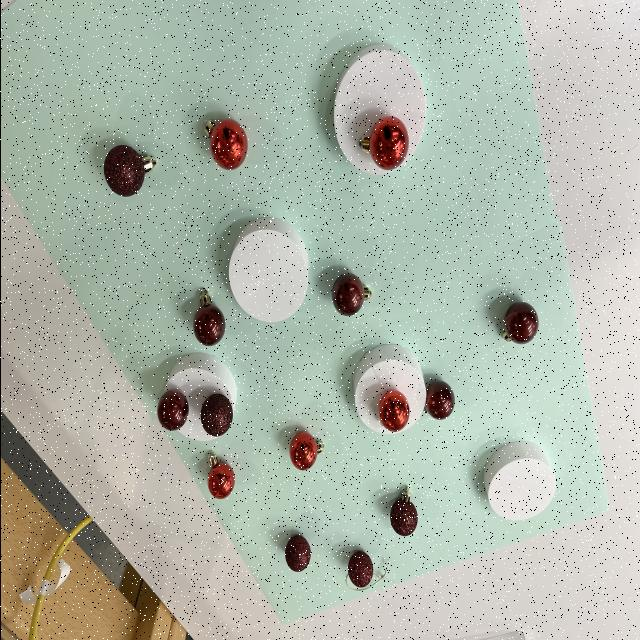glitter-bauble: (98, 138, 162, 200), (102, 145, 156, 198), (386, 481, 422, 541), (196, 390, 236, 440), (279, 530, 315, 574), (199, 393, 232, 437), (389, 486, 417, 536), (344, 548, 374, 590), (283, 535, 310, 572), (347, 551, 372, 588)
glossy-bauble: (354, 108, 412, 176), (200, 114, 248, 173), (357, 116, 408, 168), (203, 119, 246, 170), (286, 425, 326, 473), (204, 446, 238, 500), (376, 386, 412, 436), (206, 450, 234, 499), (288, 432, 323, 471), (377, 390, 408, 432)
wine-red-bauble: (496, 294, 544, 354), (328, 270, 378, 320), (190, 285, 228, 350), (417, 374, 459, 424), (192, 288, 225, 346), (154, 386, 192, 434), (330, 273, 371, 316), (502, 302, 538, 345), (156, 390, 188, 431), (422, 381, 454, 420)
